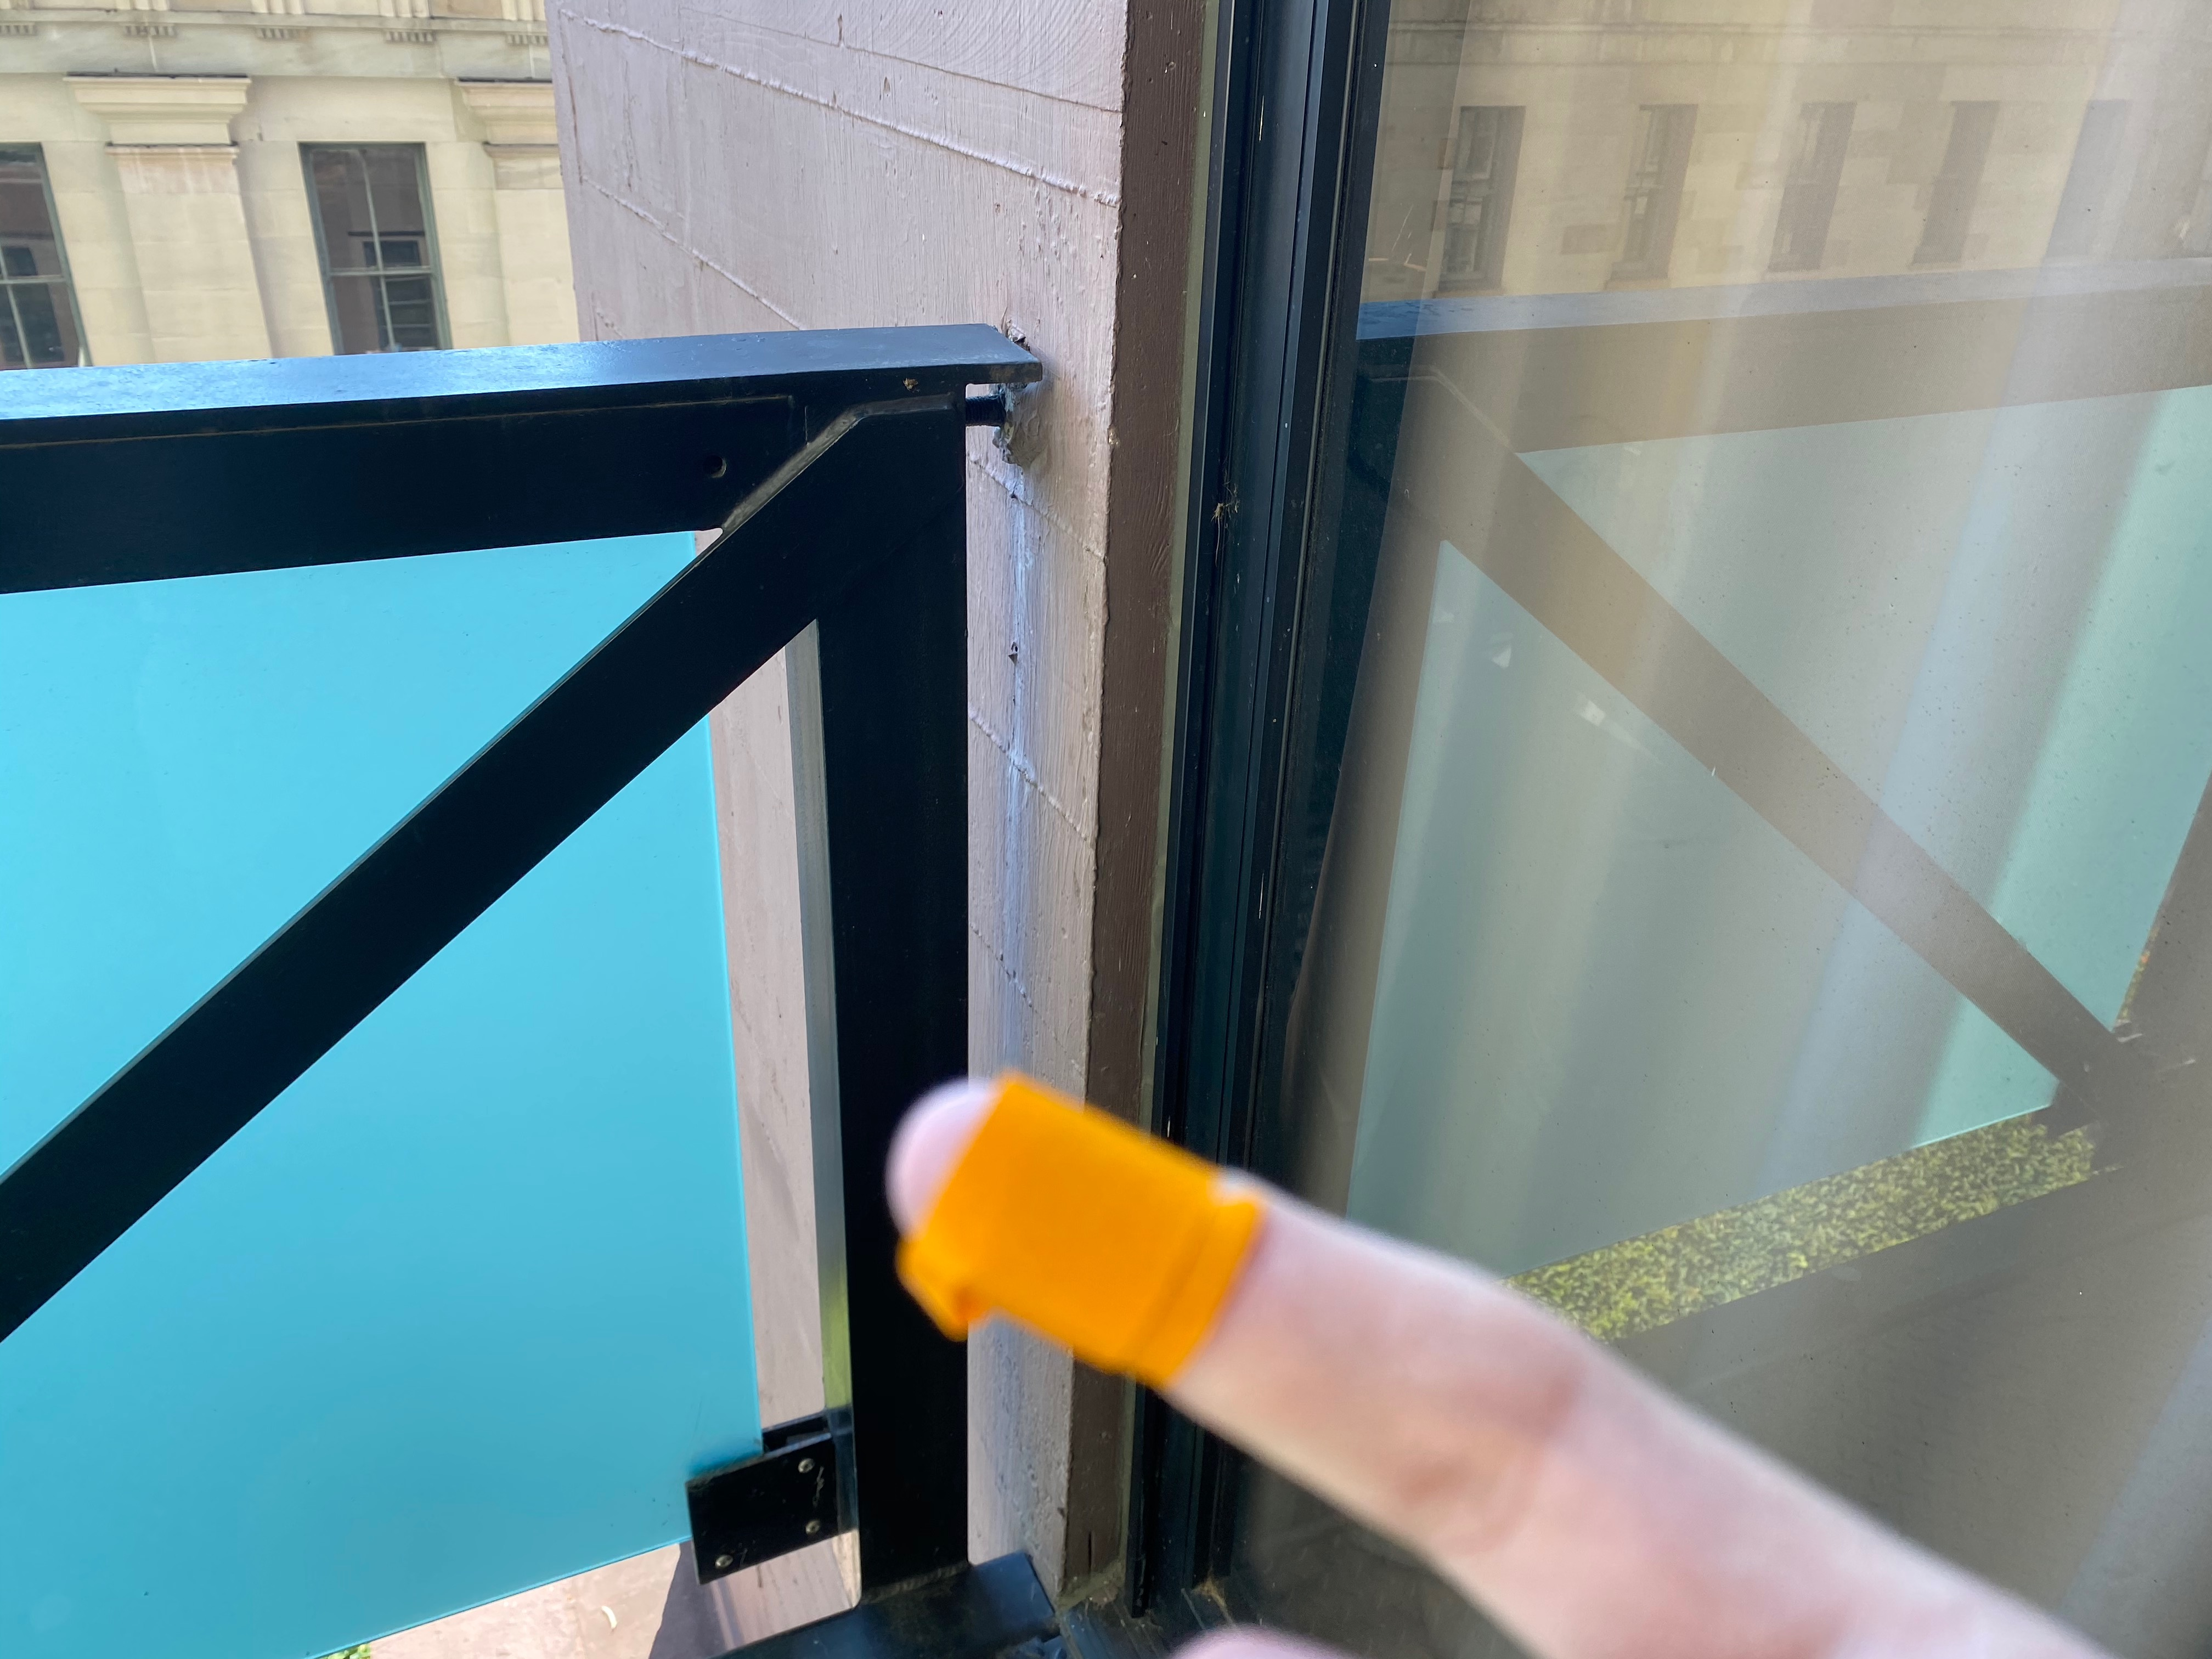fingertip: (873, 1051, 1362, 1480)
